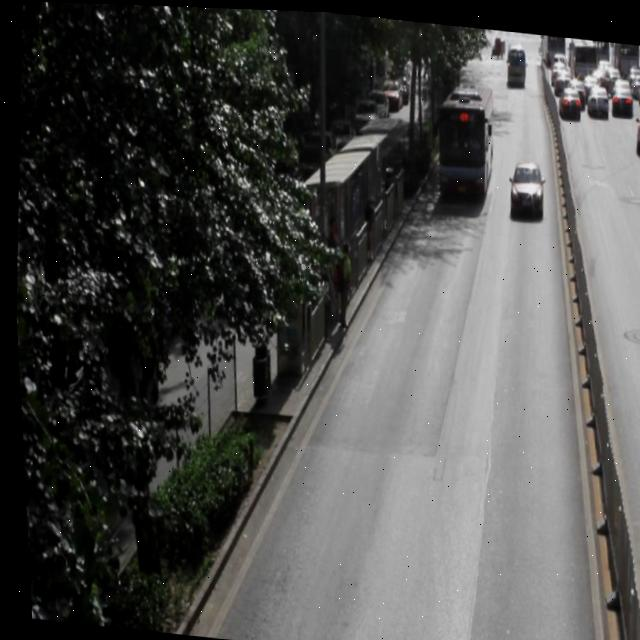car: (503, 154, 543, 211)
van: (429, 73, 496, 194)
